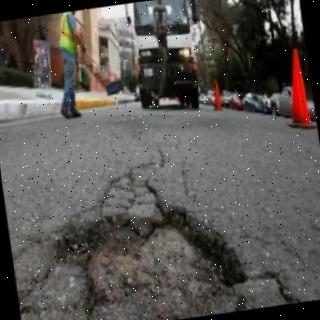pothole: (63, 211, 246, 320)
